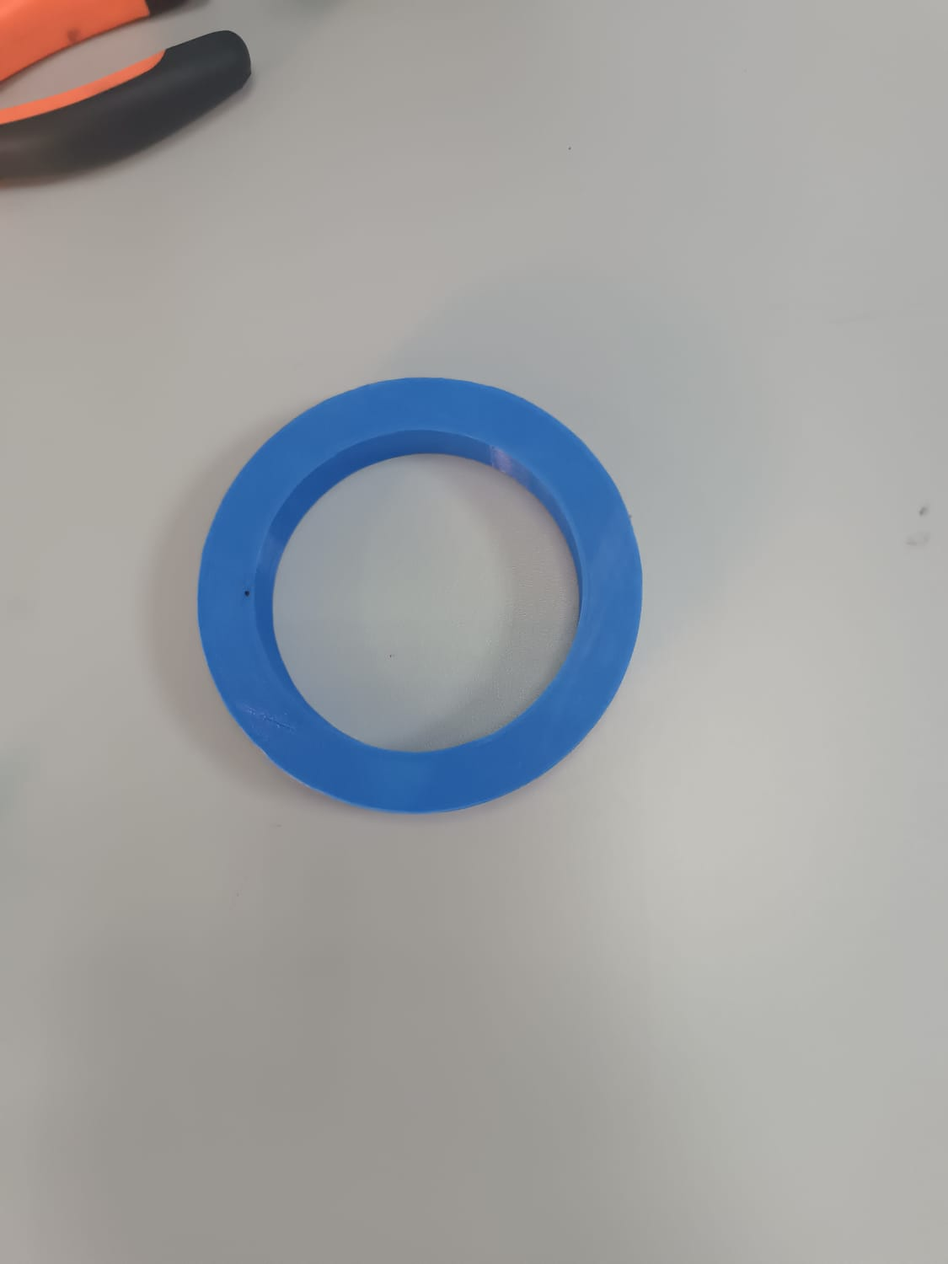Circle: (183, 366, 664, 831)
